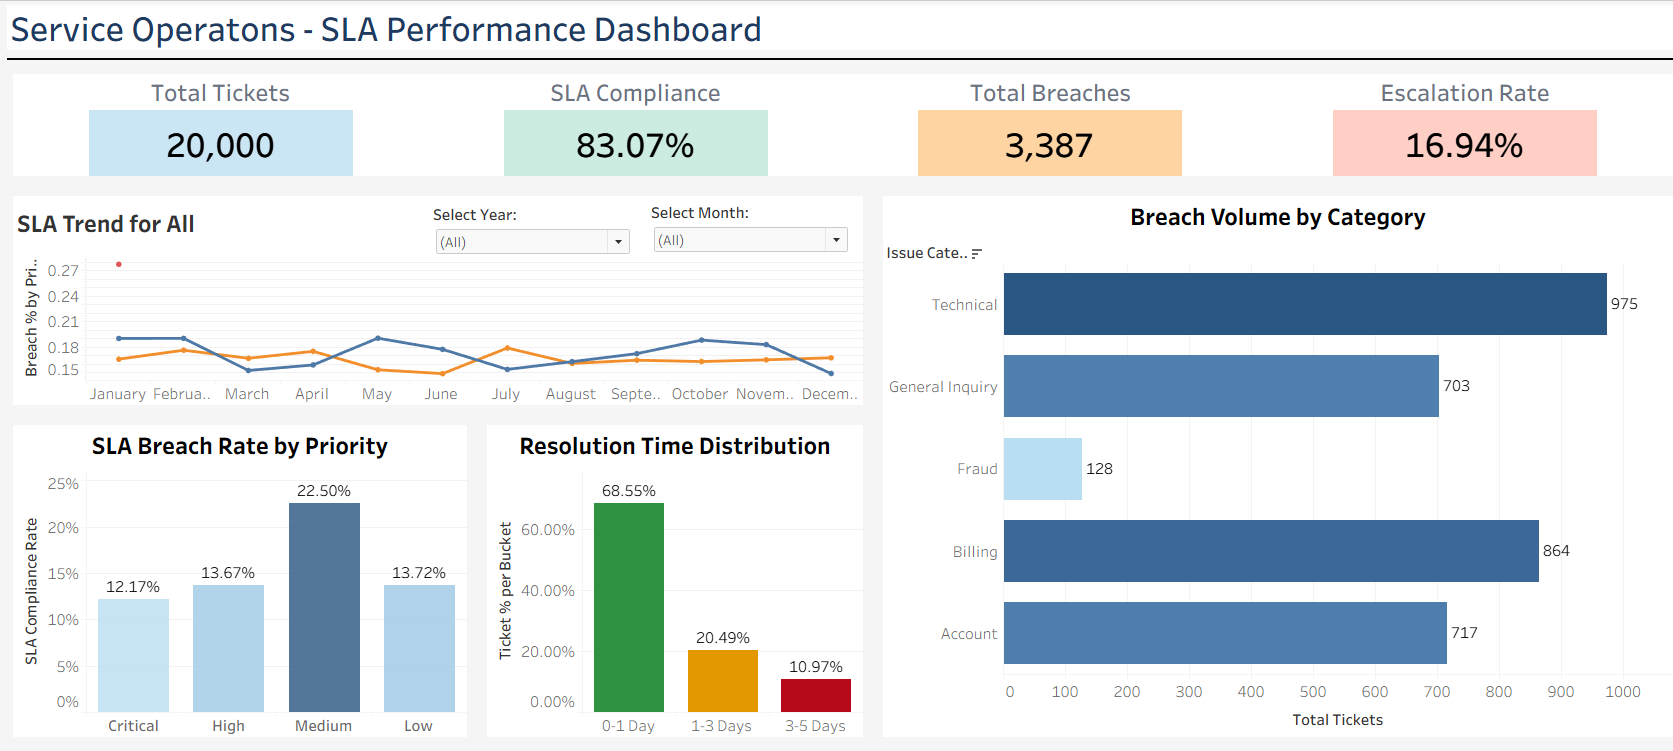

This screenshot's page, from the dashboard's own definition file:
{"tool":"tableau","page":{"name":"Dashboard 2","canvas":[1000,1000],"units":"permille","ordinal":1},"visuals":[{"type":"text","box":[0,0,903.6,71]},{"type":"blank","box":[0,71,903.6,13.4]},{"type":"worksheet","title":"KPIs","mark":"Square","box":[0,84.3,903.6,163.6]},{"type":"worksheet","title":"SLA Trend","mark":"Line","rows":["Calculation_0834571176329216"],"cols":["Submission_Date"],"box":[0,247.9,468,306.6]},{"type":"worksheet","title":"Breach by Category","mark":"Automatic","rows":["Issue_Category"],"cols":["Calculation_0852987311202304"],"box":[468,247.9,435.6,750.8]},{"type":"filter","title":"SLA Trend","param":"[federated.1thy87f0etwfrk18dpi360eyg6xf].[mn:Submission_Date:ok]","box":[348.6,269.1,107.6,81.7]},{"type":"filter","title":"SLA Trend","param":"[federated.1thy87f0etwfrk18dpi360eyg6xf].[yr:Submission_Date:ok]","box":[231.3,271.8,107.6,81.7]},{"type":"worksheet","title":"Breach % by Priority","mark":"Automatic","rows":["Calculation_0834571176329216"],"cols":["Priority_Level"],"box":[0,554.5,255,444.3]},{"type":"worksheet","title":"Resolution Time Distribution (%)","mark":"Automatic","rows":["Calculation_1026162534473728"],"cols":["Calculation_1329627469742081"],"box":[255,554.5,212.9,444.3]}]}

Visuals, with their boxes on the dashboard's canvas, which has no fixed pixel size, in thousandths of its width and height (x1, y1, x2, y2). These are canvas units, not pixel positions in the 1673x751 screenshot, which may show the page scaled, cropped or inside an application window:
text: 0:0:904:71
blank: 0:71:904:84
"KPIs" worksheet (Square marks): 0:84:904:248
"SLA Trend" worksheet (Line marks): 0:248:468:554
"Breach by Category" worksheet: 468:248:904:999
"SLA Trend" filter: 349:269:456:351
"SLA Trend" filter: 231:272:339:354
"Breach % by Priority" worksheet: 0:554:255:999
"Resolution Time Distribution (%)" worksheet: 255:554:468:999
